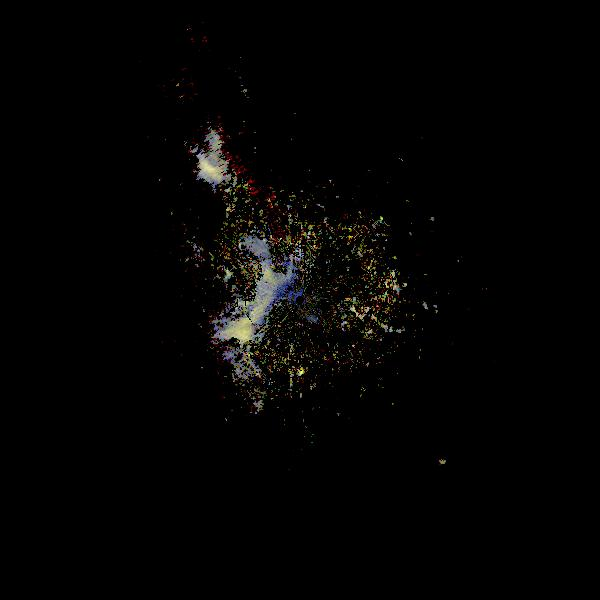roost: (440, 460, 449, 469), (429, 215, 438, 224)
